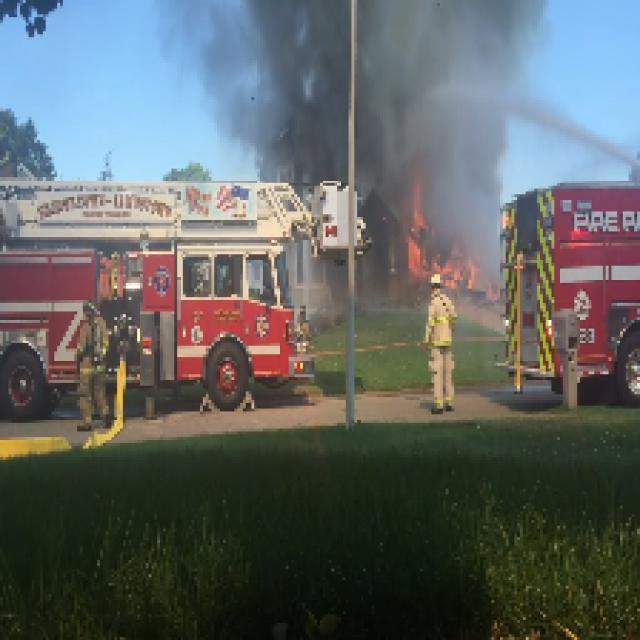Fire: (403, 180, 480, 286)
Smoke: (152, 2, 548, 294)
